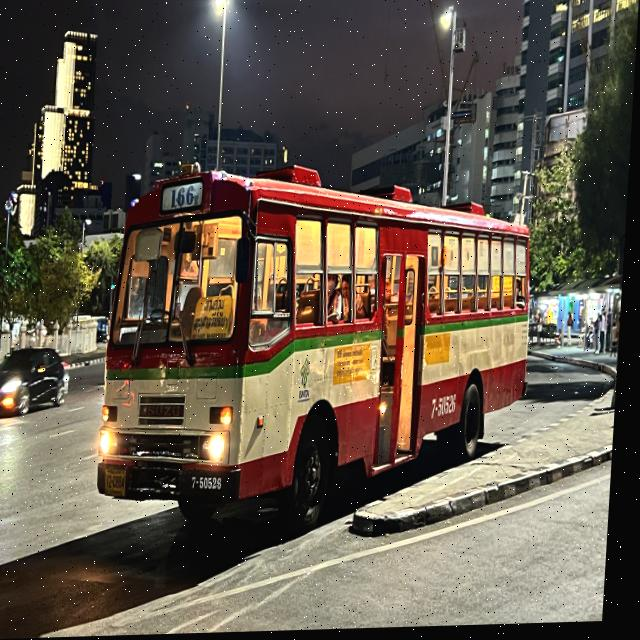BMTA-bus: (96, 154, 543, 541)
Bus-Line-Number: (172, 184, 202, 210)
Destination-Sign-Normal-Expressway: (193, 291, 237, 345)
